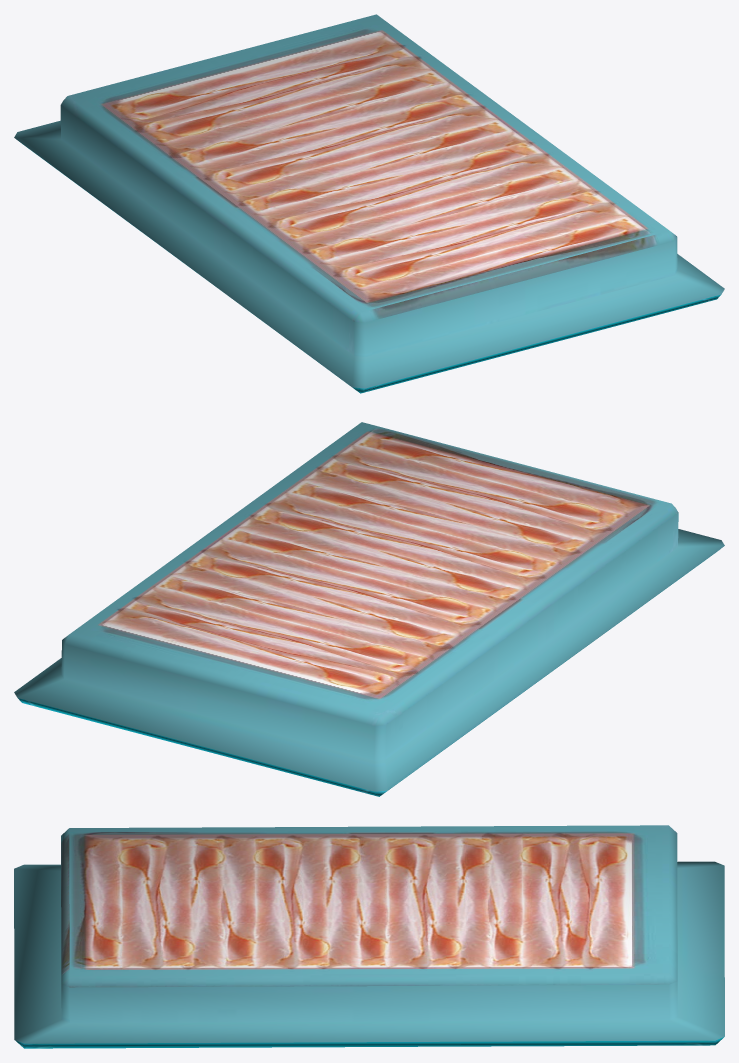
File: jamon-pierna.glb
The picture shows the model from 3 angles, top to bottom: view 1: azimuth 30°, elevation 25°; view 2: azimuth 150°, elevation 25°; view 3: azimuth 270°, elevation 25°; orthographic projection. The views are drawn at different scales.
Parts seen in each view (by area): view 1: jamon-pierna; view 2: jamon-pierna; view 3: jamon-pierna.
Boxes of the visible parts, x1=… form: jamon-pierna: x1=14, y1=14, x2=724, y2=393; jamon-pierna: x1=14, y1=422, x2=724, y2=796; jamon-pierna: x1=14, y1=825, x2=724, y2=1048.
Size of the model in its own units: 0.2274 by 0.0394 by 0.3658.
Materials: 1 (1 with a texture image).
